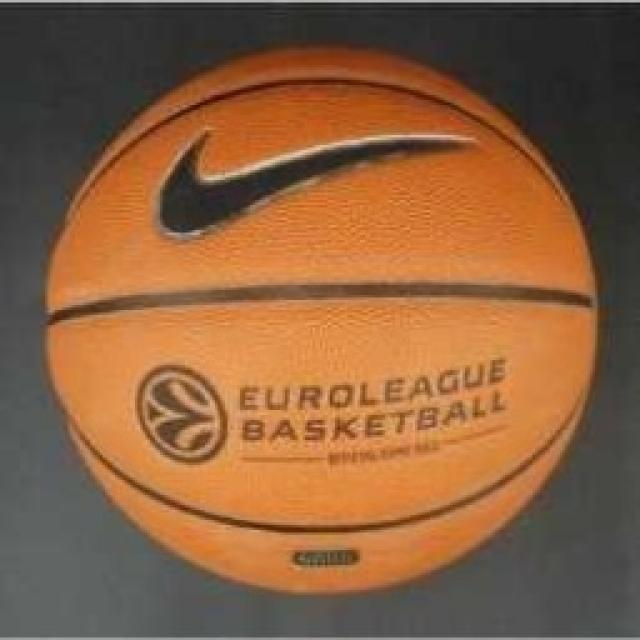rim: (32, 28, 620, 610)
